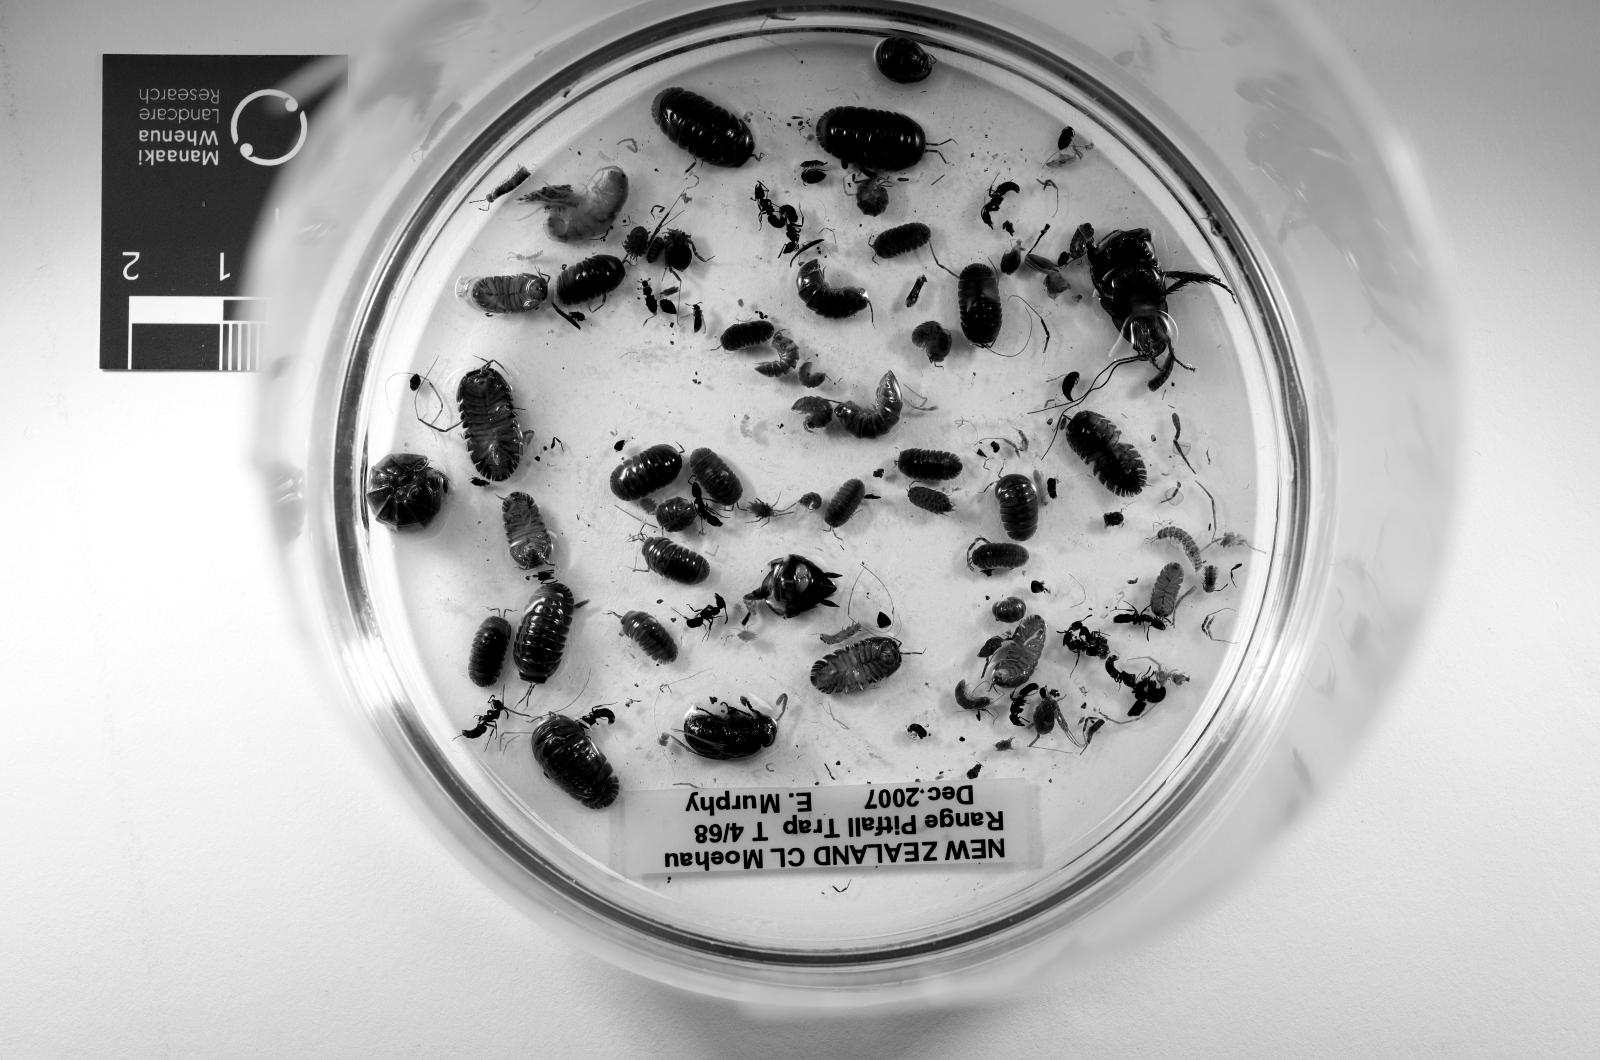amphipoda: (544, 168, 628, 242)
blattodea: (1084, 230, 1228, 363)
coleoptera: (641, 279, 659, 314), (1062, 373, 1078, 401), (1056, 127, 1075, 149), (800, 168, 825, 183)
collembola: (800, 158, 825, 171)
diptera: (678, 699, 778, 761), (675, 304, 706, 332)
formicidae: (462, 699, 519, 739), (981, 180, 1019, 227), (684, 593, 725, 634), (1106, 655, 1150, 693), (753, 180, 788, 227), (691, 481, 722, 528), (1009, 683, 1038, 727), (778, 205, 803, 255), (1112, 609, 1166, 630), (1062, 630, 1097, 661), (1069, 621, 1106, 649), (581, 708, 616, 727)
hemiptera: (747, 500, 794, 522)
isopoda: (456, 360, 528, 481), (650, 87, 753, 168), (531, 714, 619, 807), (816, 106, 928, 171), (1066, 410, 1147, 497), (512, 581, 578, 683), (366, 453, 450, 531), (809, 637, 903, 693), (797, 261, 872, 320), (838, 373, 903, 438), (609, 444, 681, 500), (994, 615, 1047, 689), (503, 491, 553, 568), (959, 264, 1003, 348), (556, 255, 625, 304), (619, 612, 678, 665), (691, 447, 744, 506), (472, 273, 547, 314), (644, 537, 709, 584), (469, 615, 512, 686), (994, 475, 1038, 540), (875, 37, 934, 84), (897, 447, 962, 481), (1156, 525, 1203, 571), (756, 332, 800, 379), (825, 478, 866, 528), (872, 224, 931, 258), (1150, 562, 1184, 618), (719, 320, 775, 351), (791, 394, 834, 432), (912, 320, 950, 363), (972, 543, 1028, 571), (656, 497, 697, 531), (856, 177, 888, 217), (909, 488, 953, 516), (1069, 224, 1094, 261), (797, 360, 828, 388), (994, 596, 1025, 624)
opiliones: (1028, 689, 1072, 745), (662, 230, 700, 273), (625, 227, 650, 258)
